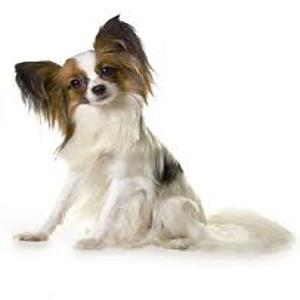yell: (14, 15, 294, 254)
